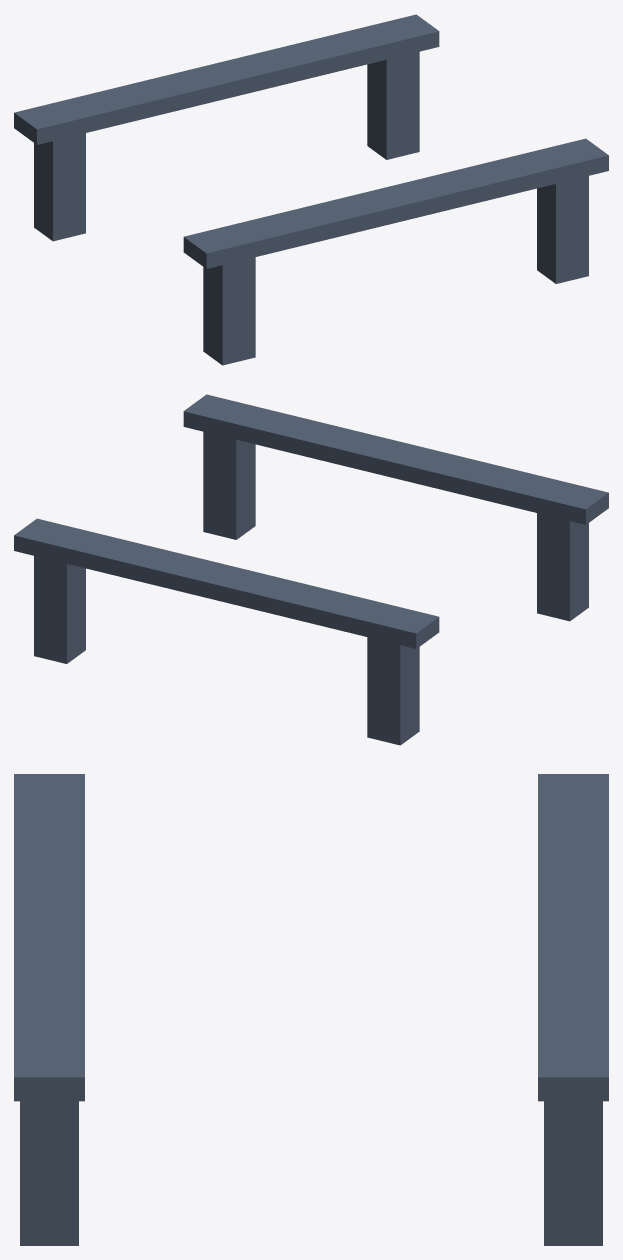
Rendered from gas-jar-rest.glb.
3 renders of one model, top to bottom at view 1: azimuth 30°, elevation 25°; view 2: azimuth 150°, elevation 25°; view 3: azimuth 270°, elevation 25°, orthographic. The views are drawn at different scales.
Parts seen in each view (by area): view 1: gas-jar-rest part 1, gas-jar-rest part 4, gas-jar-rest part 5, gas-jar-rest part 3, gas-jar-rest part 2, gas-jar-rest part 6; view 2: gas-jar-rest part 4, gas-jar-rest part 1, gas-jar-rest part 2, gas-jar-rest part 6, gas-jar-rest part 5, gas-jar-rest part 3; view 3: gas-jar-rest part 1, gas-jar-rest part 4, gas-jar-rest part 3, gas-jar-rest part 6.
Boxes of the visible parts, <box> form: gas-jar-rest part 1: <box>14,14,439,144</box>; gas-jar-rest part 4: <box>183,138,608,268</box>; gas-jar-rest part 5: <box>203,257,255,365</box>; gas-jar-rest part 3: <box>367,51,419,159</box>; gas-jar-rest part 2: <box>34,133,85,241</box>; gas-jar-rest part 6: <box>537,176,588,283</box>; gas-jar-rest part 4: <box>183,394,608,524</box>; gas-jar-rest part 1: <box>14,518,439,648</box>; gas-jar-rest part 2: <box>367,637,419,745</box>; gas-jar-rest part 6: <box>203,431,255,539</box>; gas-jar-rest part 5: <box>537,513,588,621</box>; gas-jar-rest part 3: <box>34,556,85,663</box>; gas-jar-rest part 1: <box>538,774,608,1101</box>; gas-jar-rest part 4: <box>14,774,84,1101</box>; gas-jar-rest part 3: <box>544,1101,602,1245</box>; gas-jar-rest part 6: <box>20,1101,78,1245</box>.
Size of the model in its own units: 0.111 by 0.031 by 0.092.
